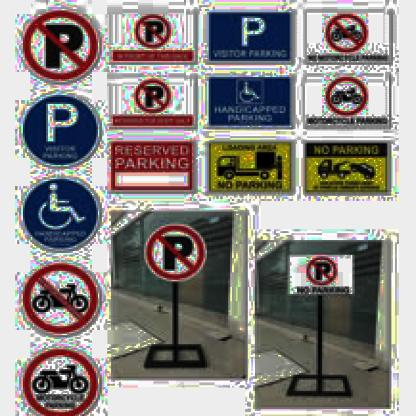Parking: (26, 88, 102, 168), (209, 6, 292, 61)
